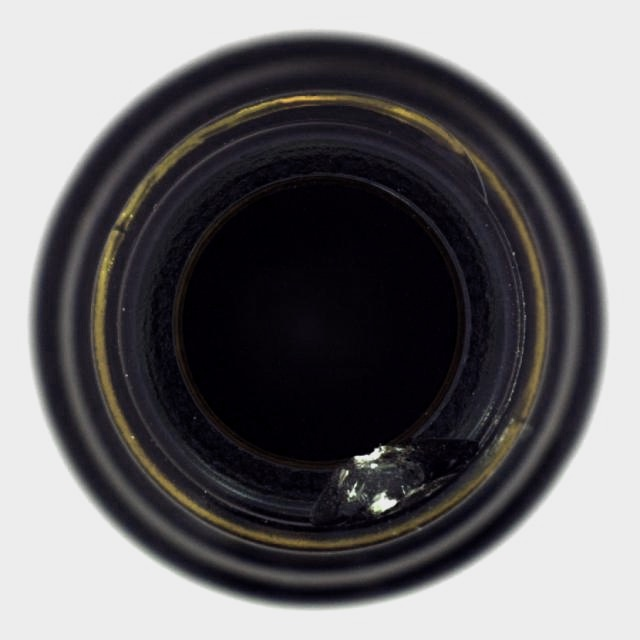bad-broken_small: (26, 29, 608, 611)
